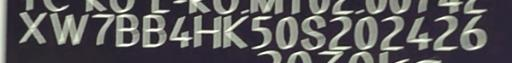letter: (48, 11, 90, 46), (16, 11, 48, 46), (191, 14, 223, 49), (458, 13, 488, 50), (430, 14, 460, 51), (298, 14, 328, 49), (220, 14, 250, 49), (404, 15, 434, 50), (140, 13, 168, 50), (378, 14, 406, 51), (114, 13, 142, 48), (326, 14, 354, 49), (353, 15, 379, 50), (250, 13, 274, 50), (168, 14, 192, 51), (90, 12, 114, 47), (274, 14, 298, 49)
